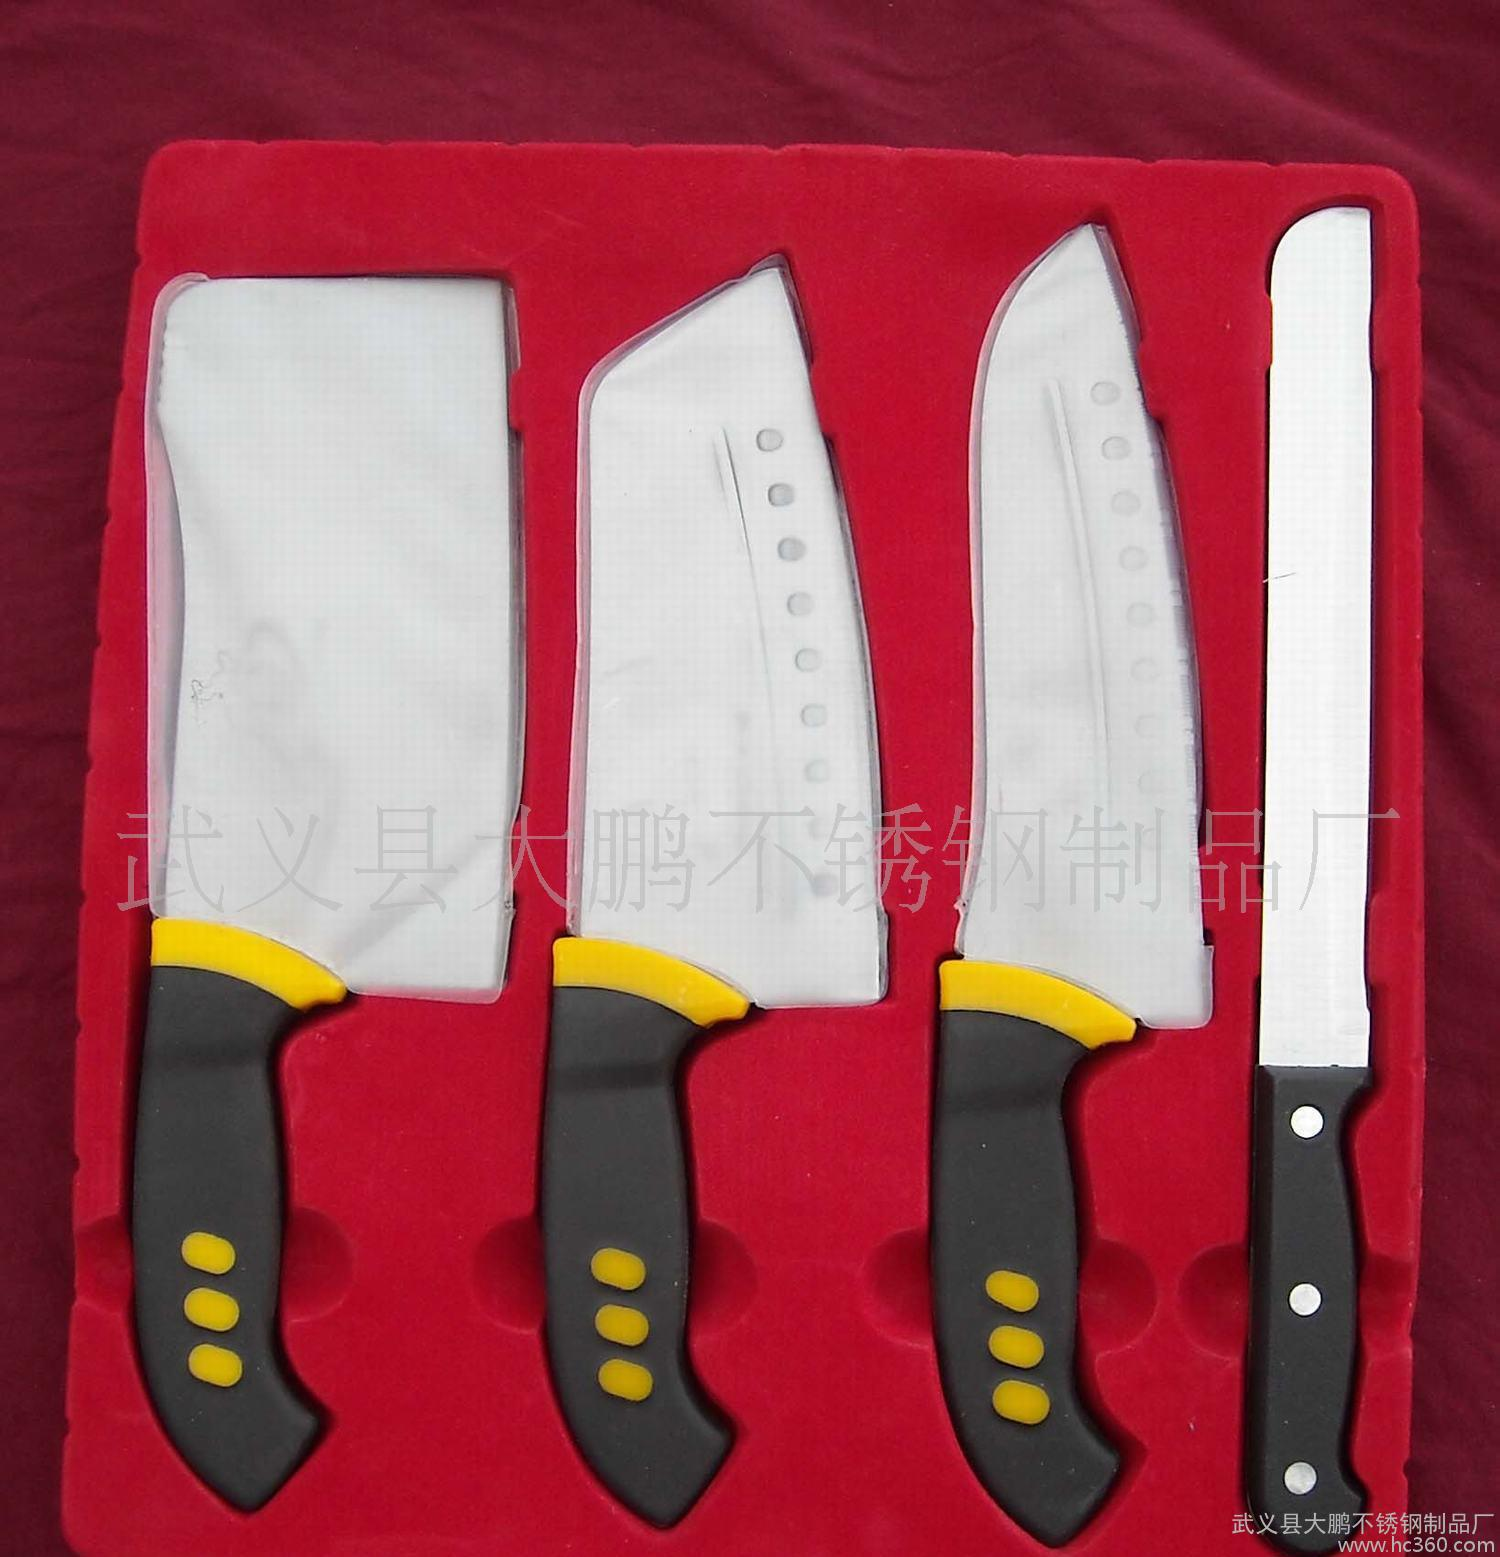knief: (114, 231, 525, 1469)
